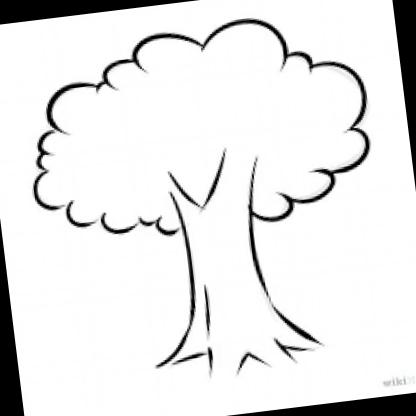branch_cut: (162, 144, 264, 220)
crown_cloud: (14, 11, 378, 248)
root_only: (150, 318, 328, 410)
trunk_bark: (178, 219, 287, 335)
